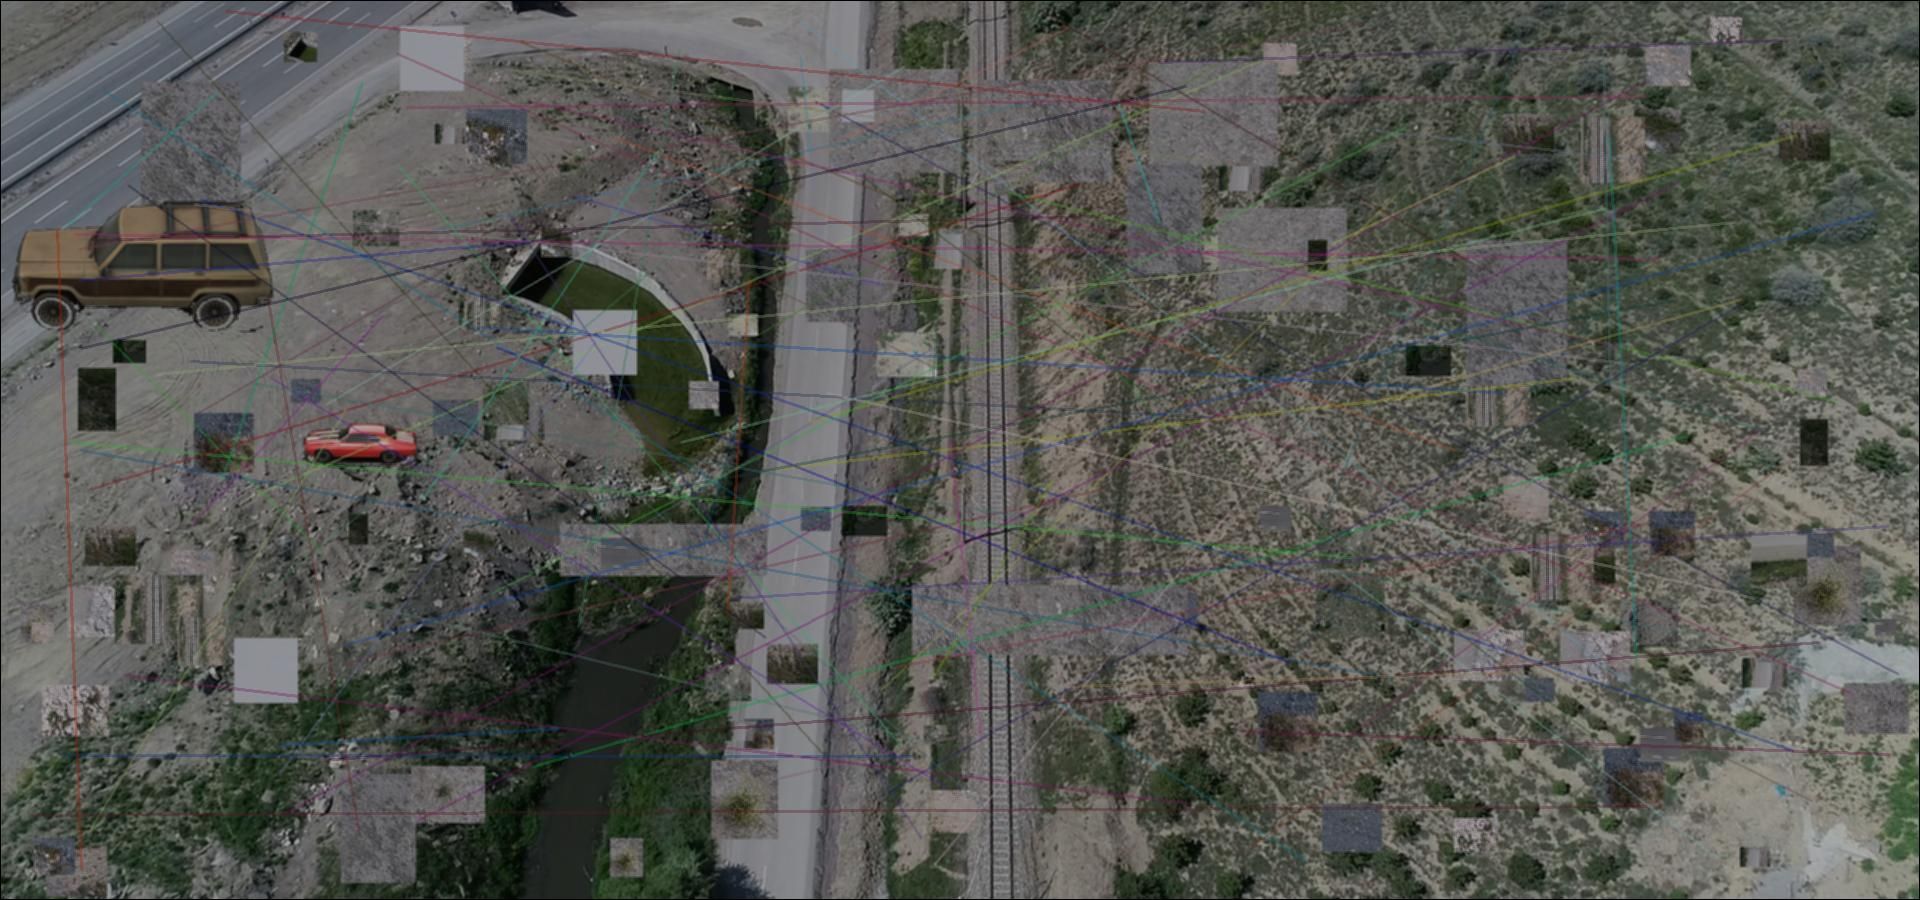arac: (9, 193, 276, 332), (298, 420, 420, 467)
